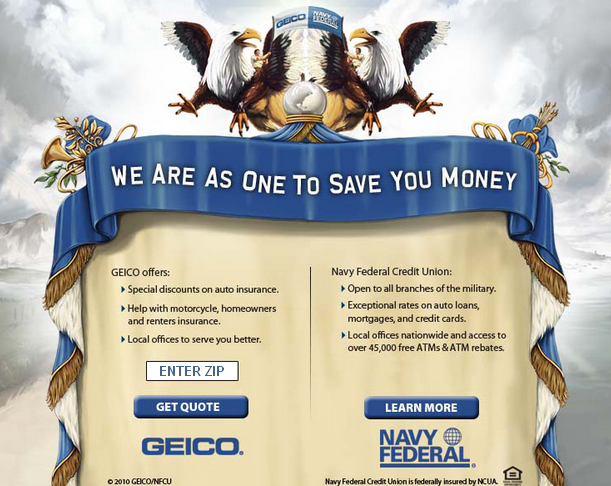geico: (138, 436, 247, 458)
